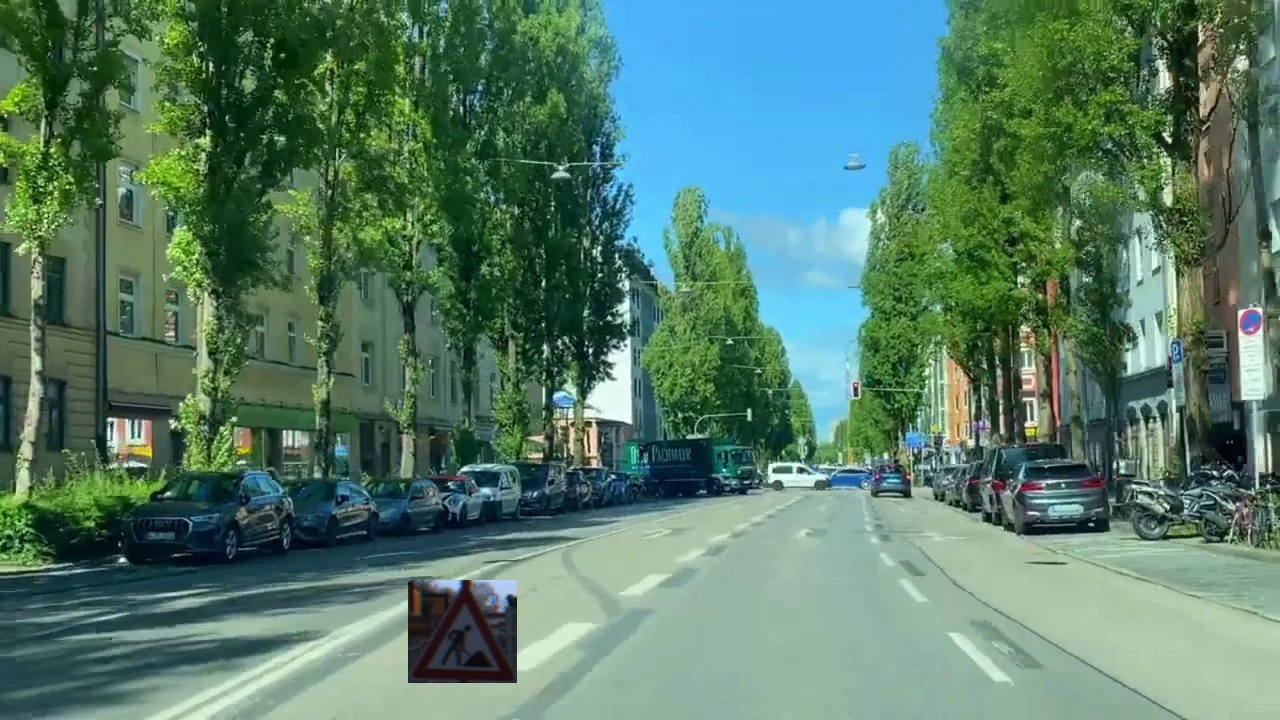Road work: (408, 580, 517, 683)
